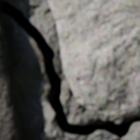brick: (48, 0, 139, 116), (0, 5, 24, 139)
crack: (0, 0, 139, 139)
